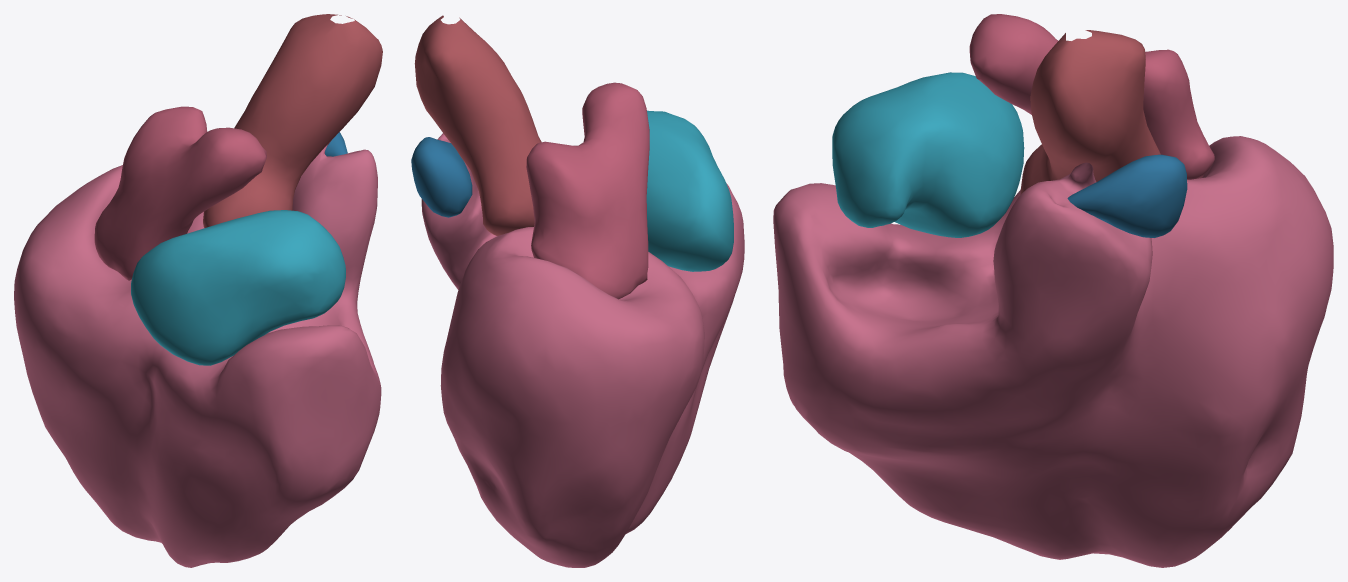
The model's file is frame_40.glb.
3 views of the same model, side by side, from view 1: azimuth 30°, elevation 25°; view 2: azimuth 150°, elevation 25°; view 3: azimuth 270°, elevation 25° (orthographic). The views are drawn at different scales.
Visible parts, largest first — view 1: Renderer Node; view 2: Renderer Node; view 3: Renderer Node.
Boxes of the visible parts, box(x1,y1,x2,y2) form: Renderer Node: box(14, 14, 382, 567); Renderer Node: box(411, 15, 744, 567); Renderer Node: box(773, 14, 1333, 567).
Bounding box in the file's own units: 102 × 158 × 128.
